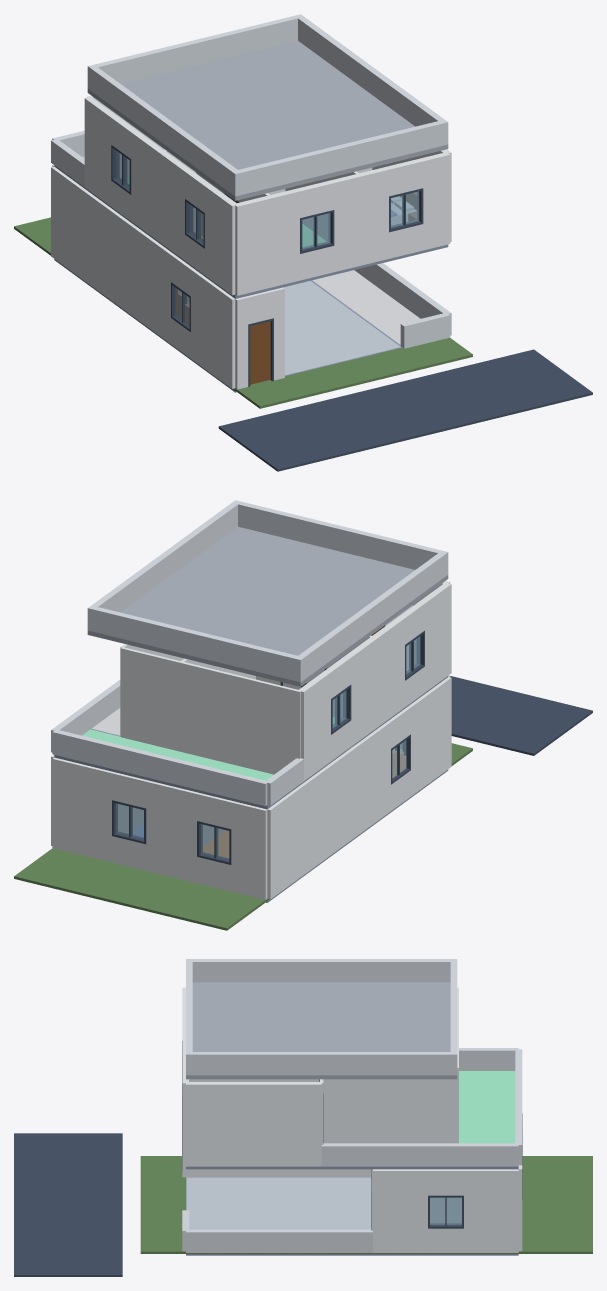
The model's file is two-storey.glb.
3 views of the same model, one above another, from view 1: azimuth 30°, elevation 25°; view 2: azimuth 150°, elevation 25°; view 3: azimuth 270°, elevation 25° (orthographic). The views are drawn at different scales.
Visible parts, largest first — view 1: roof_2, L2_walls, site, L1_walls, room_1_2, L2_windows, room_1_3, L1_doors, L2_slab, L1_slab, L1_windows, L2_furniture; view 2: roof_2, L2_walls, L1_walls, site, L1_windows, room_2_7, L2_windows, L2_slab; view 3: roof_2, L2_walls, site, L1_walls, room_1_2, room_2_7, L2_slab, L1_windows, L1_slab.
Boxes of the visible parts, x1,y1,x2,y2 form: roof_2: (87, 14, 448, 200); L2_walls: (51, 95, 451, 295); site: (14, 217, 592, 471); L1_walls: (51, 165, 451, 389); room_1_2: (284, 280, 400, 375); L2_windows: (111, 145, 423, 253); room_1_3: (312, 270, 420, 344); L1_doors: (248, 318, 273, 386); L2_slab: (54, 165, 448, 298); L1_slab: (54, 259, 401, 392); L1_windows: (171, 282, 190, 331); L2_furniture: (391, 192, 416, 225); roof_2: (87, 500, 448, 686); L2_walls: (51, 581, 451, 806); L1_walls: (51, 675, 451, 899); site: (14, 676, 592, 930); L1_windows: (112, 734, 410, 864); room_2_7: (82, 729, 273, 780); L2_windows: (331, 630, 424, 734); L2_slab: (54, 676, 448, 809); roof_2: (186, 959, 457, 1079); L2_walls: (182, 987, 522, 1166); site: (14, 1133, 592, 1276); L1_walls: (182, 1165, 522, 1252); room_1_2: (186, 1177, 370, 1229); room_2_7: (459, 1071, 515, 1143); L2_slab: (186, 1166, 518, 1169); L1_windows: (428, 1114, 522, 1228); L1_slab: (186, 1178, 518, 1255).
Size of the model in its own units: 11.28 by 7.47 by 19.51.
